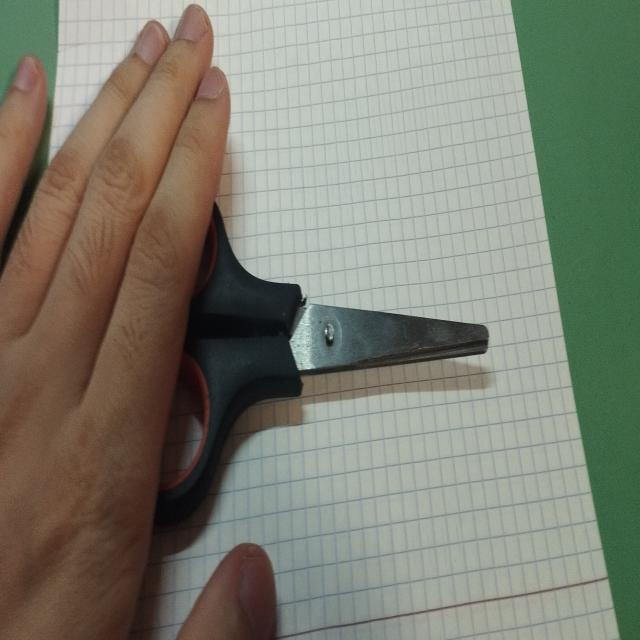tesoura: (70, 166, 494, 533)
